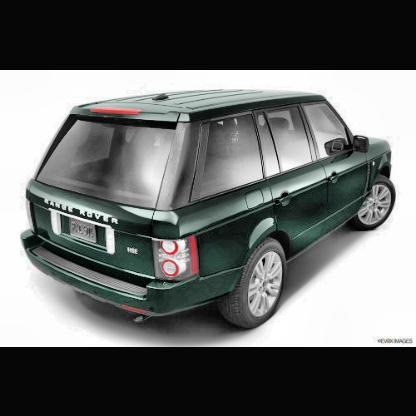Land Rover Range Rover SUV 2012: (22, 91, 396, 327)
